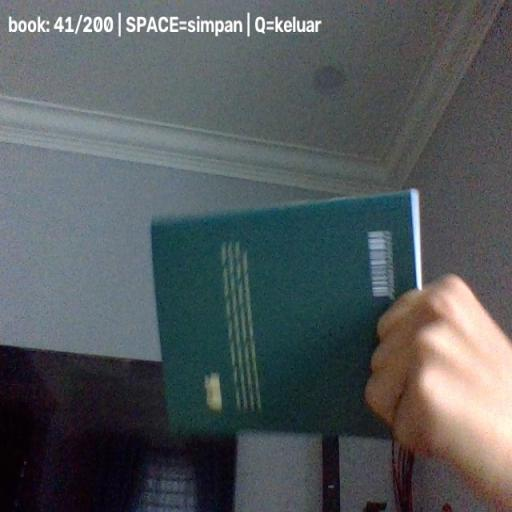Book: (149, 188, 423, 438)
